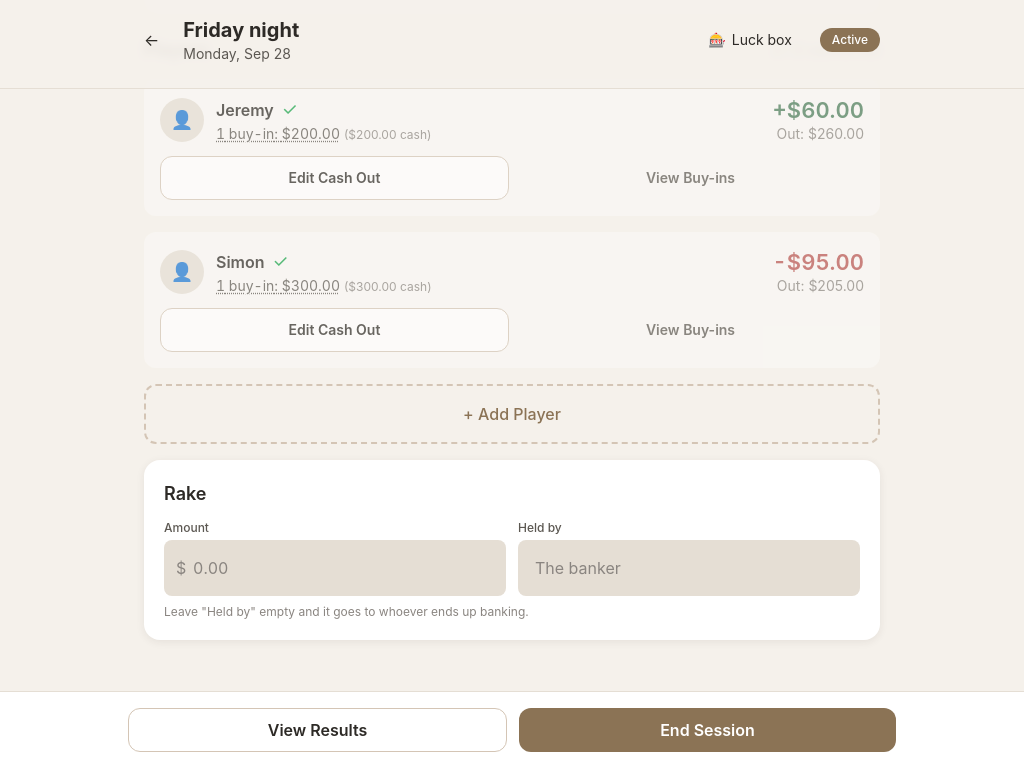
Test: SessionDetail: rake counted with the stacks › a rake typed but not saved is saved before the end-of-session check
(page scrolled)
Expected: the button "End Session" is enabled, [519,708,896,752]
Type "35" into the number field labelled "Amount".
click(335, 568); type("35")  # box [164,540,506,596]
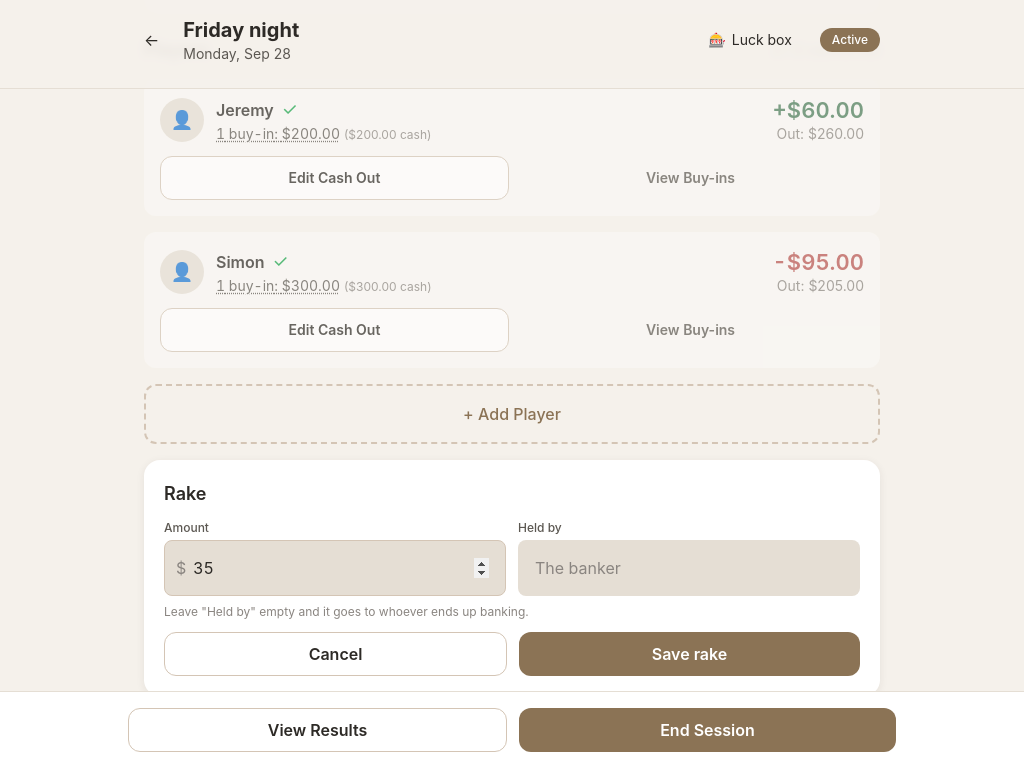
Click the button "End Session".
click(708, 730)  # box [519,708,896,752]
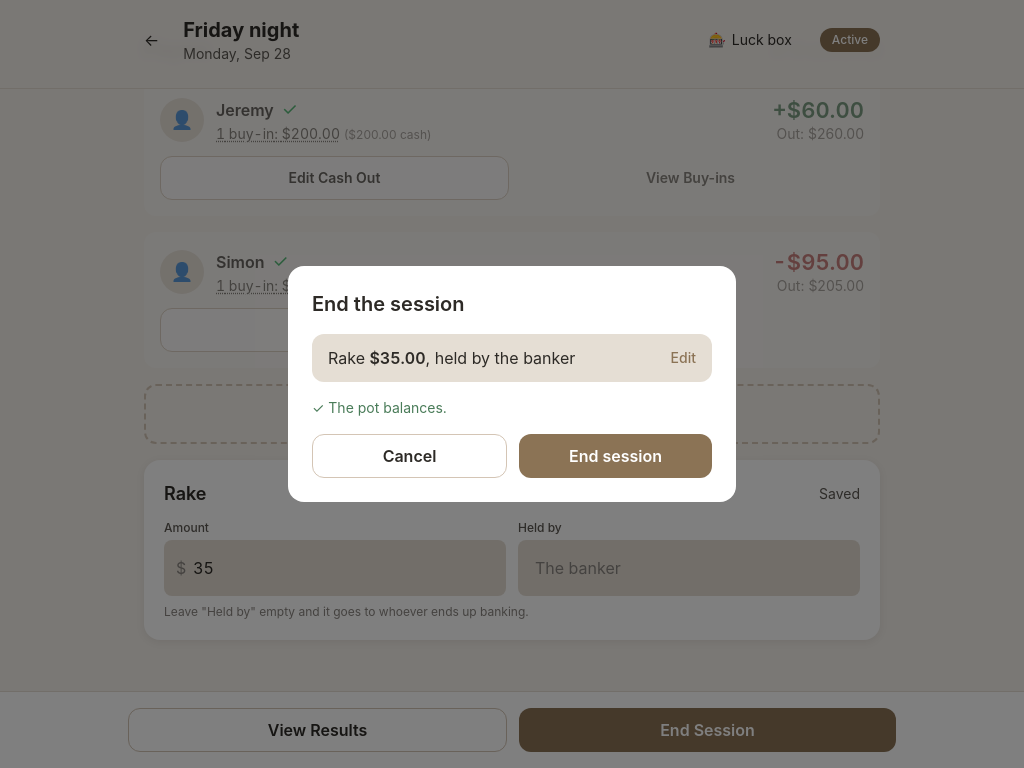
Now the text "✓ The pot balances." is shown, box [312,399,447,416]
